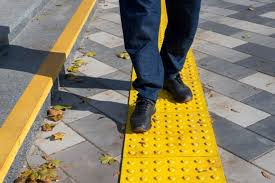guide_blocks: (122, 66, 227, 183), (131, 1, 196, 66)
